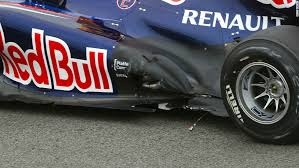Dent: (122, 20, 220, 107)
